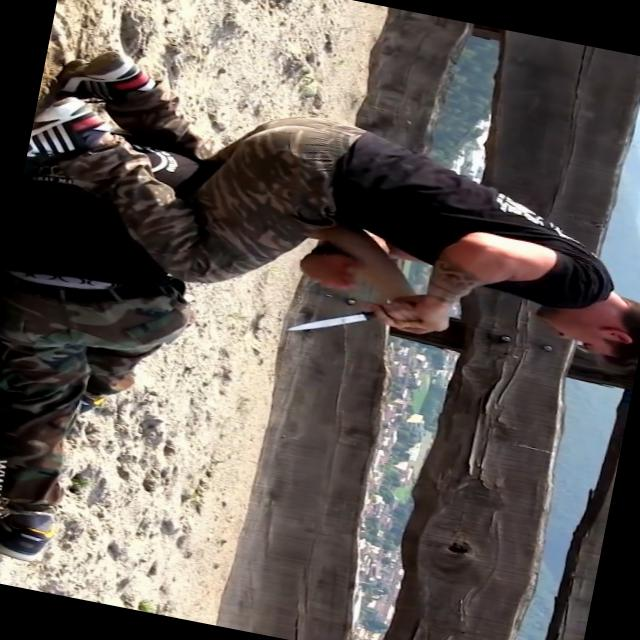knife: (276, 281, 414, 358)
